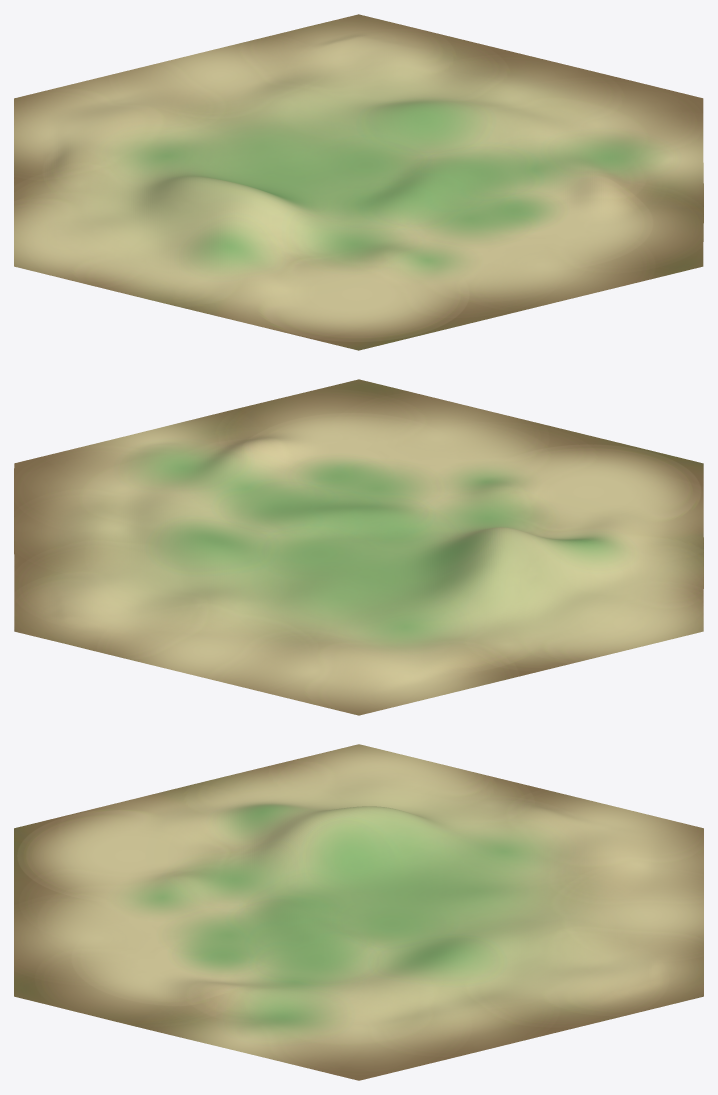
Rendered from costal1.glb.
3 renders of one model, top to bottom at view 1: azimuth 30°, elevation 25°; view 2: azimuth 150°, elevation 25°; view 3: azimuth 270°, elevation 25°, orthographic.
Visible parts, largest first — view 1: Circle; view 2: Circle; view 3: Circle.
Boxes of the visible parts, <box> form: Circle: <box>14,14,703,350</box>; Circle: <box>14,379,703,715</box>; Circle: <box>14,744,703,1080</box>.
Size of the model in its own units: 400 by 18.88 by 347.
1 material, 1 textured.
